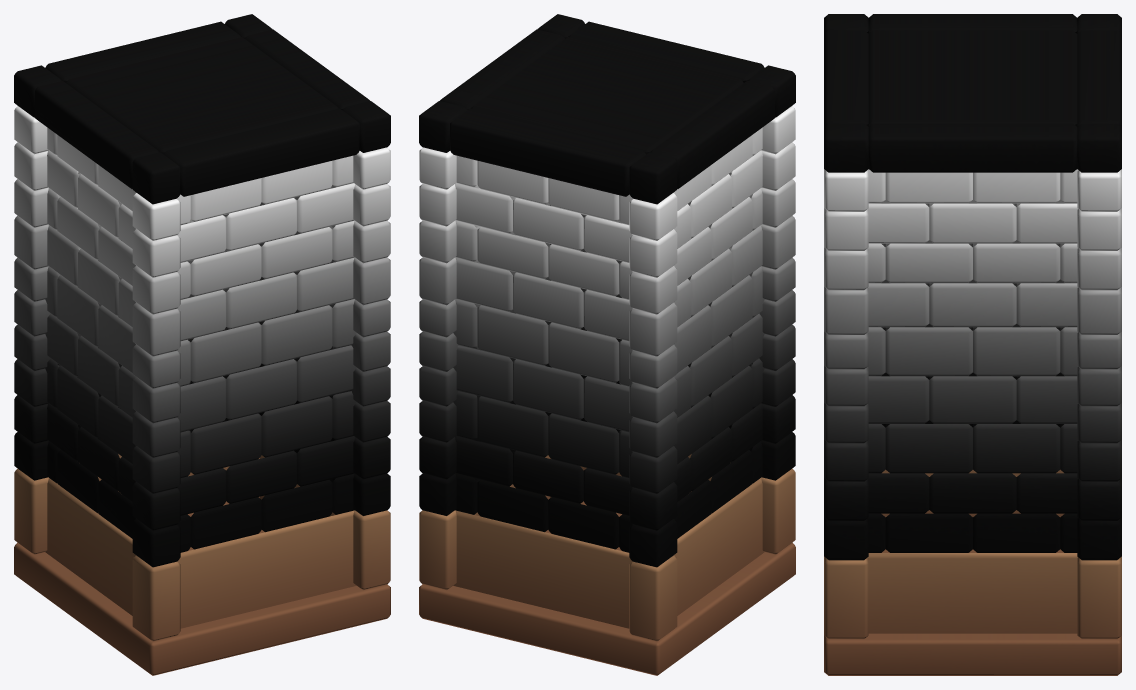
The model's file is SM_Brick_Body_07.fbx.
3 renders of one model, left to right at view 1: azimuth 30°, elevation 25°; view 2: azimuth 150°, elevation 25°; view 3: azimuth 270°, elevation 25°, orthographic. The views are drawn at different scales.
Parts seen in each view (by area): view 1: SM_Brick_Body_07; view 2: SM_Brick_Body_07; view 3: SM_Brick_Body_07.
Part boxes in pixels (x1=…): SM_Brick_Body_07: x1=14, y1=14, x2=390, y2=675; SM_Brick_Body_07: x1=419, y1=14, x2=795, y2=675; SM_Brick_Body_07: x1=824, y1=14, x2=1121, y2=675.
Bounding box in the file's own units: 0.9997 × 2 × 0.9997.
